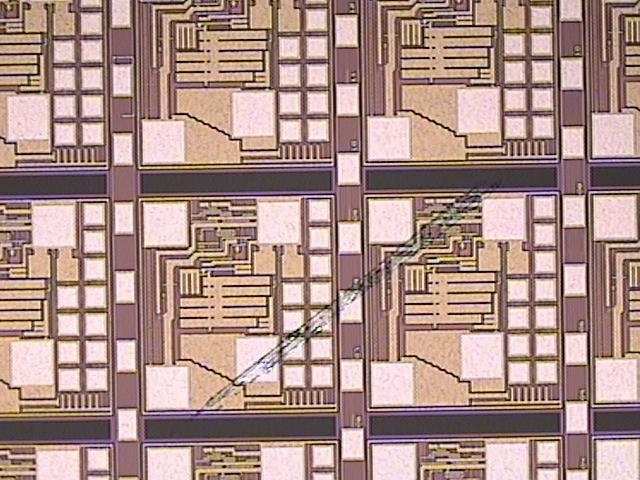SCRATCH: (181, 168, 509, 433)
